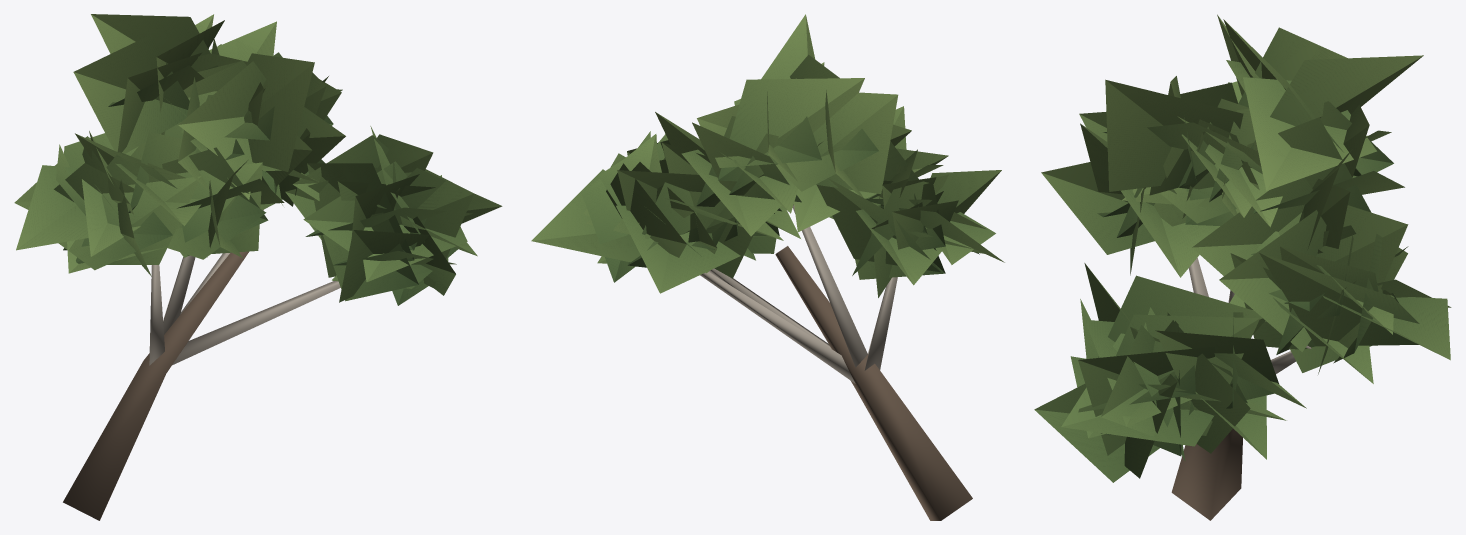
Rendered from juniper_b_lo.glb.
3 renders of one model, left to right at view 1: azimuth 30°, elevation 25°; view 2: azimuth 150°, elevation 25°; view 3: azimuth 270°, elevation 25°, orthographic. The views are drawn at different scales.
Parts seen in each view (by area): view 1: juniper_b_lo; view 2: juniper_b_lo; view 3: juniper_b_lo.
Boxes of the visible parts, bbox=[...] form: juniper_b_lo: bbox=[14, 14, 502, 520]; juniper_b_lo: bbox=[531, 14, 1004, 520]; juniper_b_lo: bbox=[1034, 14, 1451, 520].
Size of the model in its own units: 3.83 by 3.74 by 2.61.
